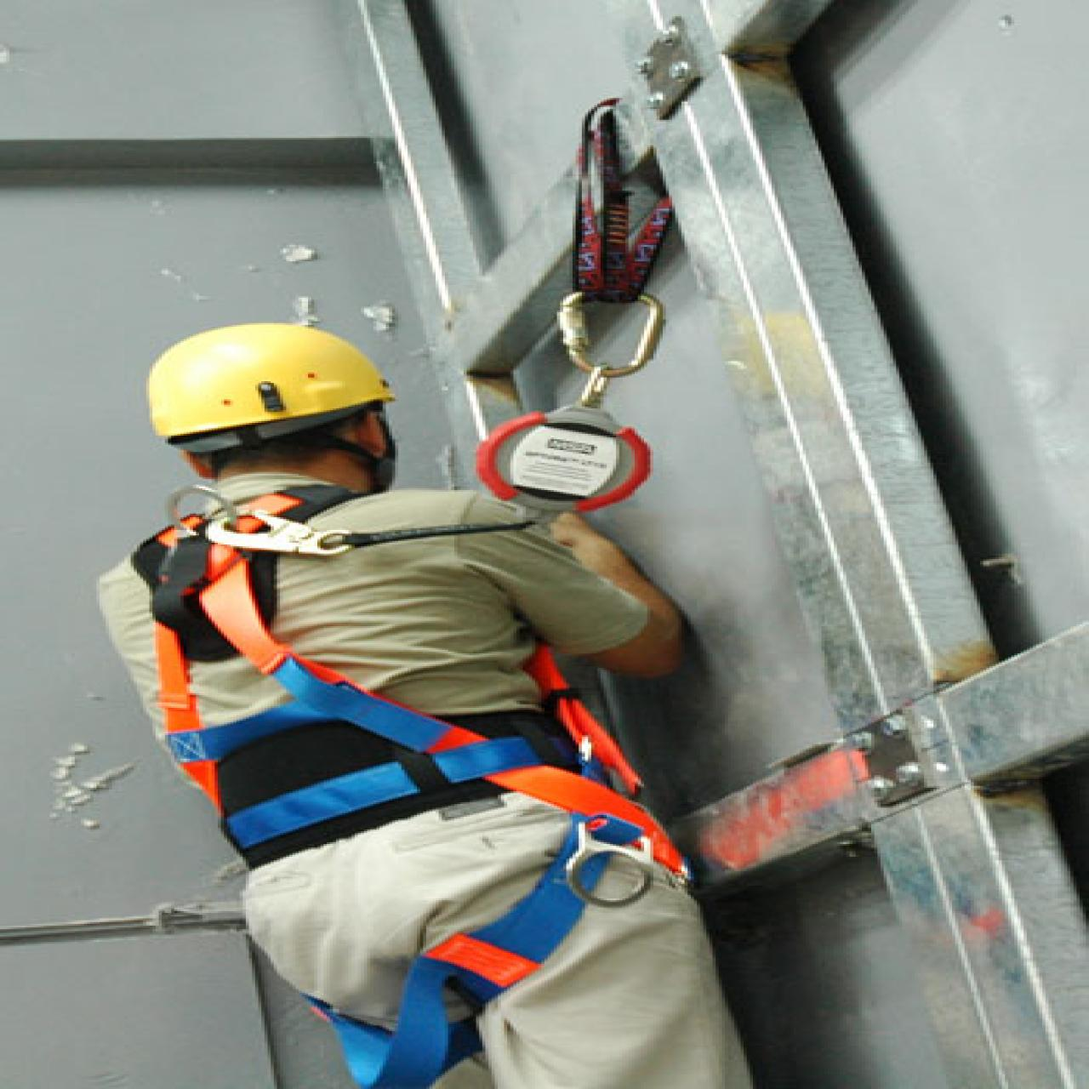NO_Safety_Vest: (88, 481, 660, 848)
Person: (69, 305, 827, 1089)
